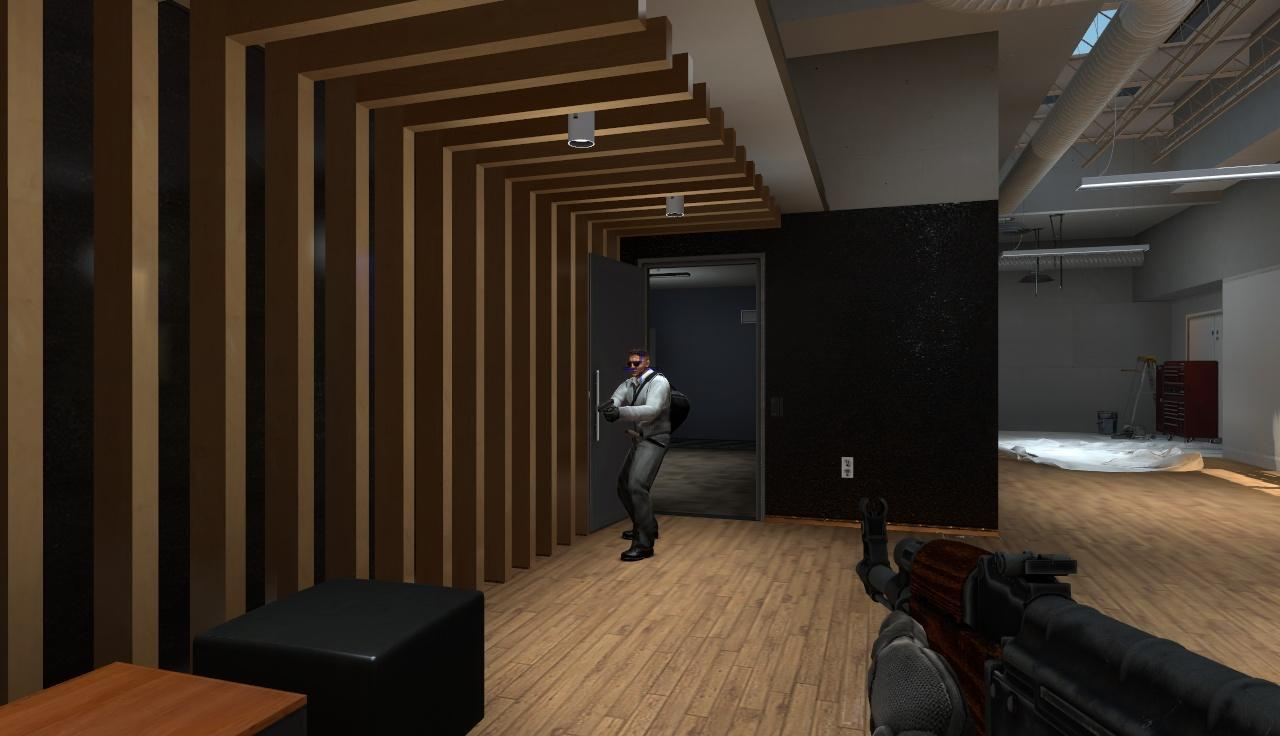rifle: (841, 490, 1280, 736)
tt: (609, 349, 671, 562)
tthead: (626, 351, 649, 378)
